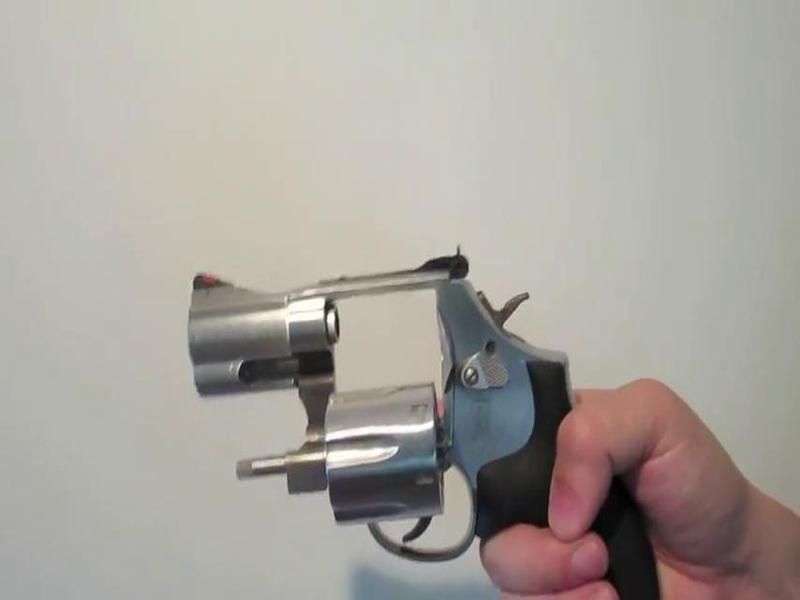Revolver: (157, 225, 689, 600)
